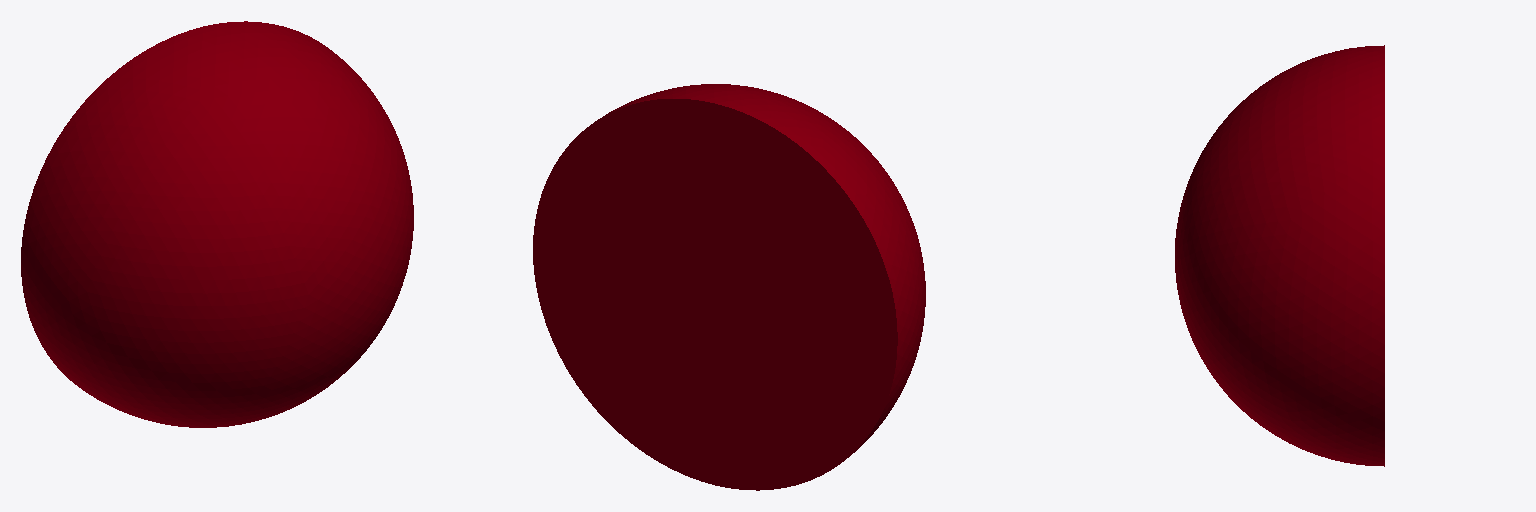
Rendered from button.obj.
3 renders of one model, left to right at view 1: azimuth 30°, elevation 25°; view 2: azimuth 150°, elevation 25°; view 3: azimuth 270°, elevation 25°, orthographic.
Visible parts, largest first — view 1: Object.1; view 2: Object.1; view 3: Object.1.
Part boxes in pixels (left/top/right/bottom): Object.1: left=21, top=21, right=413, bottom=427; Object.1: left=533, top=84, right=925, bottom=490; Object.1: left=1175, top=45, right=1384, bottom=466.
Bounding box in the file's own units: 105 × 105 × 52.48.